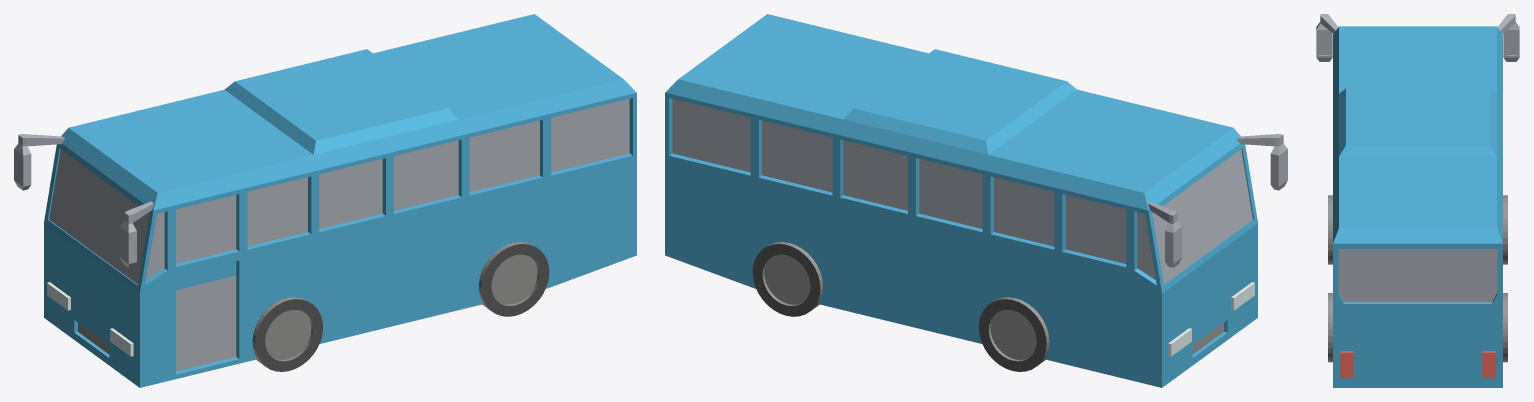
File: Bus.glb
The picture shows the model from 3 angles, left to right: view 1: azimuth 30°, elevation 25°; view 2: azimuth 150°, elevation 25°; view 3: azimuth 270°, elevation 25°; orthographic projection. The views are drawn at different scales.
Parts seen in each view (by area): view 1: Cube, Cylinder, Cube.003, Cube.002; view 2: Cube, Cylinder, Cube.003, Cube.002; view 3: Cube, Cube.003, Cylinder, Cube.001.
Boxes of the visible parts, x1,y1,x2,y2 form: Cube: (44,14,636,387); Cylinder: (252,242,549,371); Cube.003: (14,134,153,267); Cube.002: (47,282,133,356); Cube: (665,14,1257,387); Cylinder: (752,242,1049,371); Cube.003: (1148,134,1287,267); Cube.002: (1168,282,1254,356); Cube: (1333,26,1502,387); Cube.003: (1316,14,1519,61); Cylinder: (1328,195,1507,362); Cube.001: (1340,351,1495,377).
Bounding box in the file's own units: 6.26 × 2.46 × 2.39.
